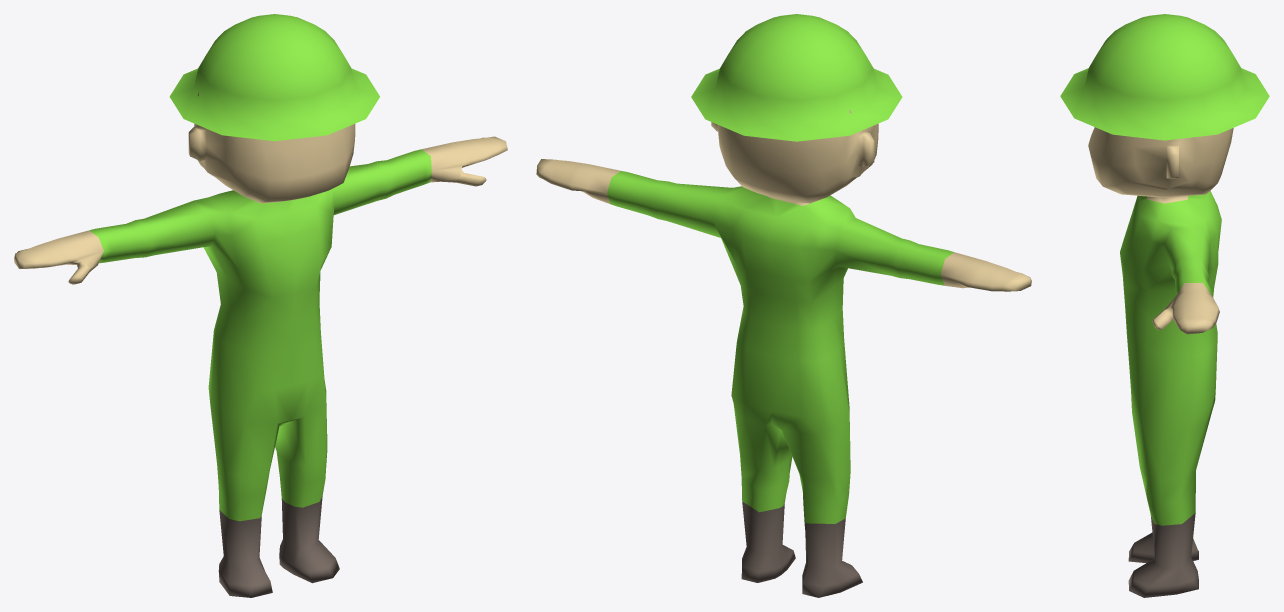
Rendered from stick.fbx.
The picture shows the model from 3 angles, left to right: view 1: azimuth 30°, elevation 25°; view 2: azimuth 150°, elevation 25°; view 3: azimuth 270°, elevation 25°; orthographic projection.
Visible parts, largest first — view 1: polySurface2; view 2: polySurface2; view 3: polySurface2.
Part boxes in pixels (<box>): polySurface2: <box>14,14,507,597</box>; polySurface2: <box>536,14,1031,597</box>; polySurface2: <box>1060,14,1269,597</box>.
Bounding box in the file's own units: 819 × 886 × 306.
